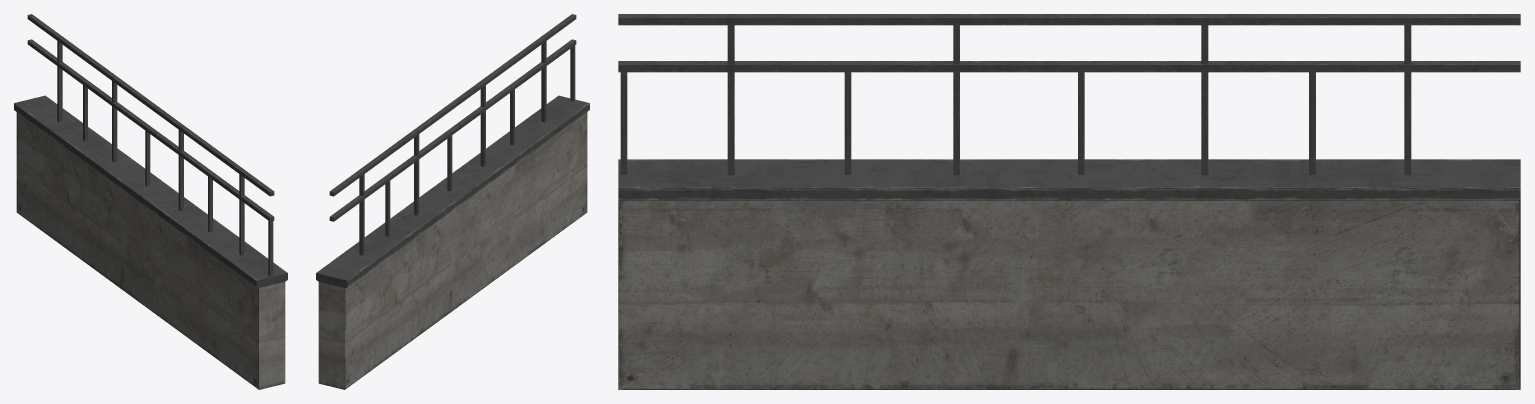
File: CP_Parapet_D_4m.fbx
The picture shows the model from 3 angles, left to right: view 1: azimuth 30°, elevation 25°; view 2: azimuth 150°, elevation 25°; view 3: azimuth 270°, elevation 25°; orthographic projection. The views are drawn at different scales.
Visible parts, largest first — view 1: CP_Parapet_D_4m; view 2: CP_Parapet_D_4m; view 3: CP_Parapet_D_4m.
Boxes of the visible parts, left/top/right/bottom form: CP_Parapet_D_4m: left=14, top=14, right=287, bottom=389; CP_Parapet_D_4m: left=316, top=14, right=589, bottom=389; CP_Parapet_D_4m: left=618, top=14, right=1520, bottom=389.
Size of the model in its own units: 29.88 by 177 by 400.
